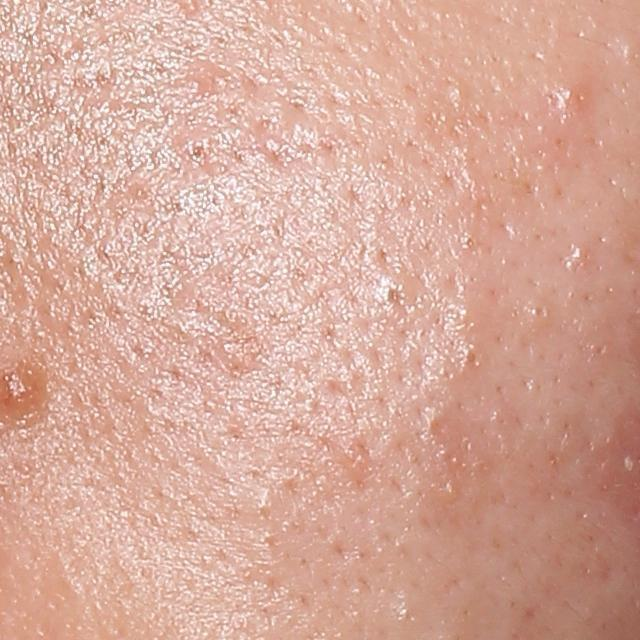comedo: (533, 71, 592, 127), (523, 296, 557, 334)
